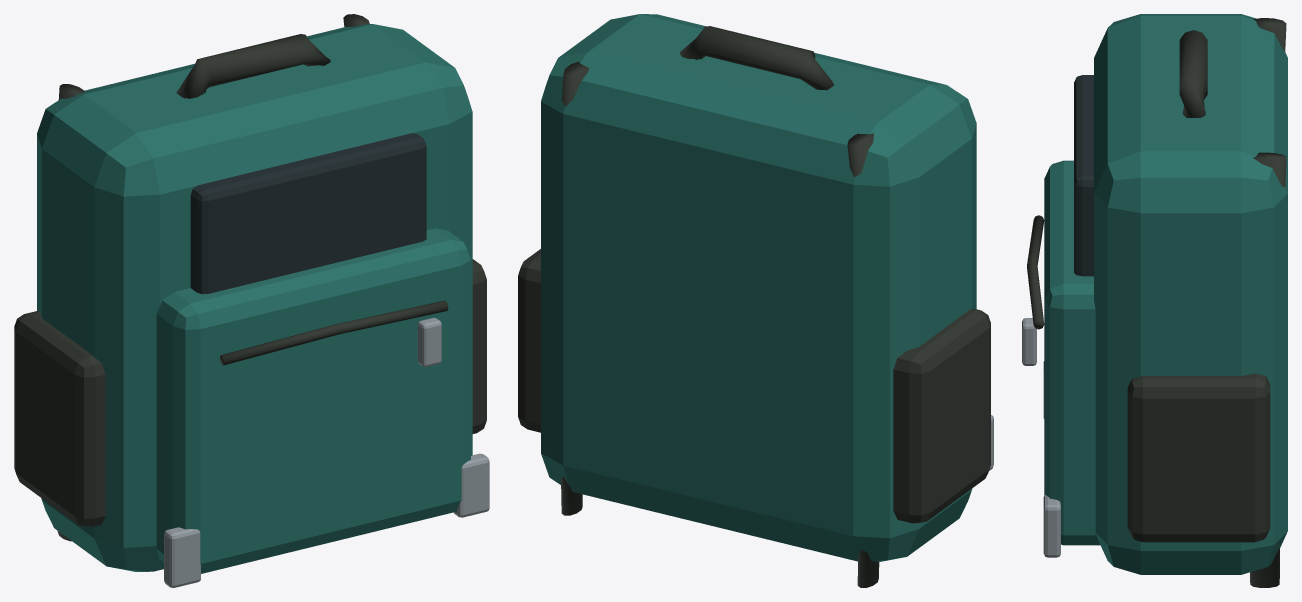
Rendered from CharBackpack.glb.
3 renders of one model, left to right at view 1: azimuth 30°, elevation 25°; view 2: azimuth 150°, elevation 25°; view 3: azimuth 270°, elevation 25°, orthographic. The views are drawn at different scales.
Visible parts, largest first — view 1: CharBackpack; view 2: CharBackpack; view 3: CharBackpack.
Part boxes in pixels (bbox=[...]): CharBackpack: bbox=[14, 14, 489, 587]; CharBackpack: bbox=[518, 14, 993, 587]; CharBackpack: bbox=[1022, 14, 1287, 587].
Size of the model in its own units: 0.339 by 0.3779 by 0.1975.
